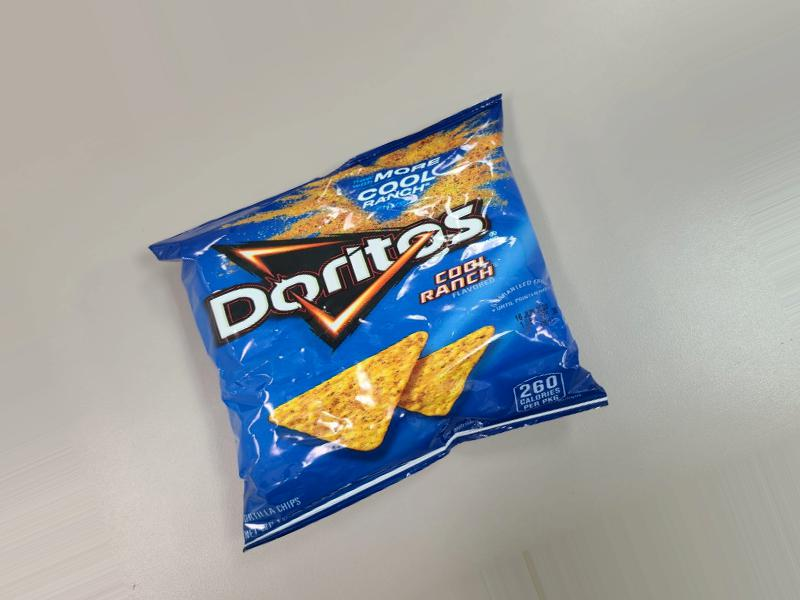doritos: (207, 190, 598, 543)
